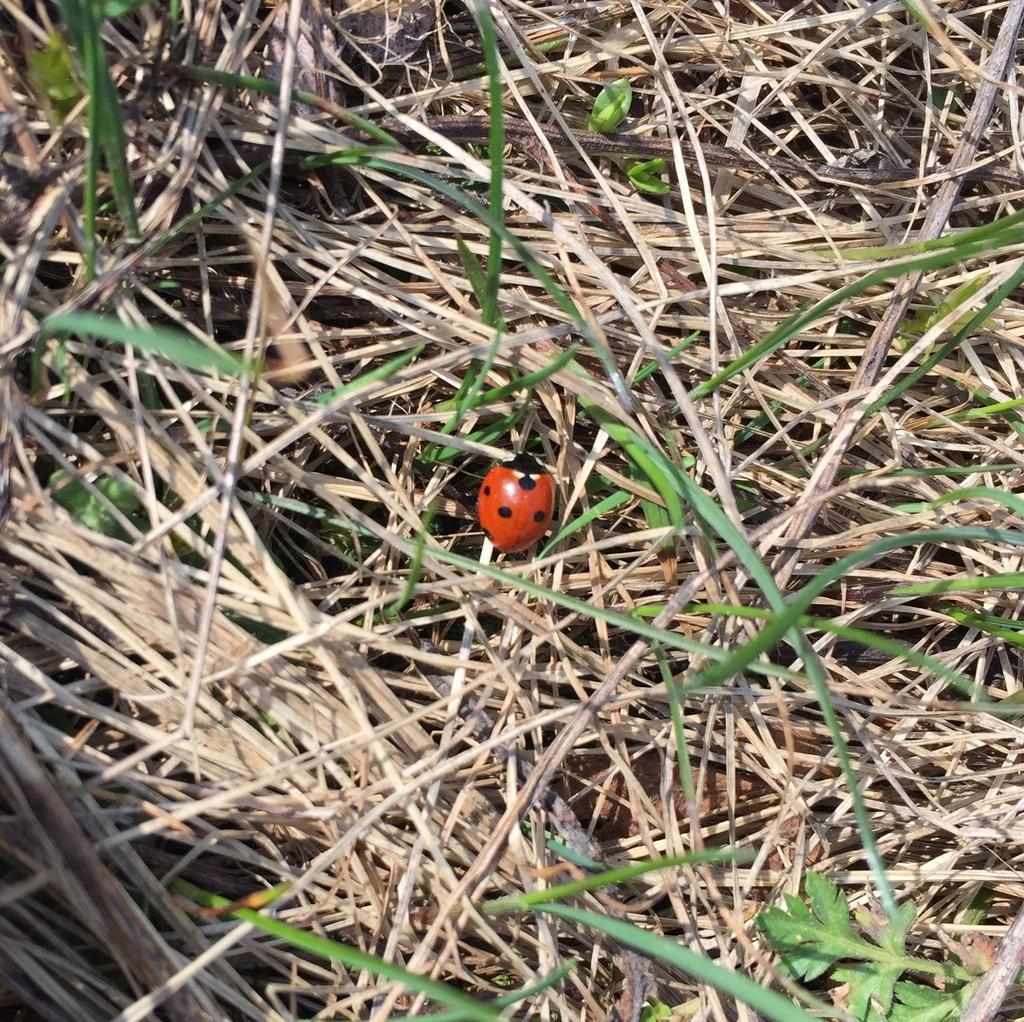ladybug: (466, 441, 566, 561)
